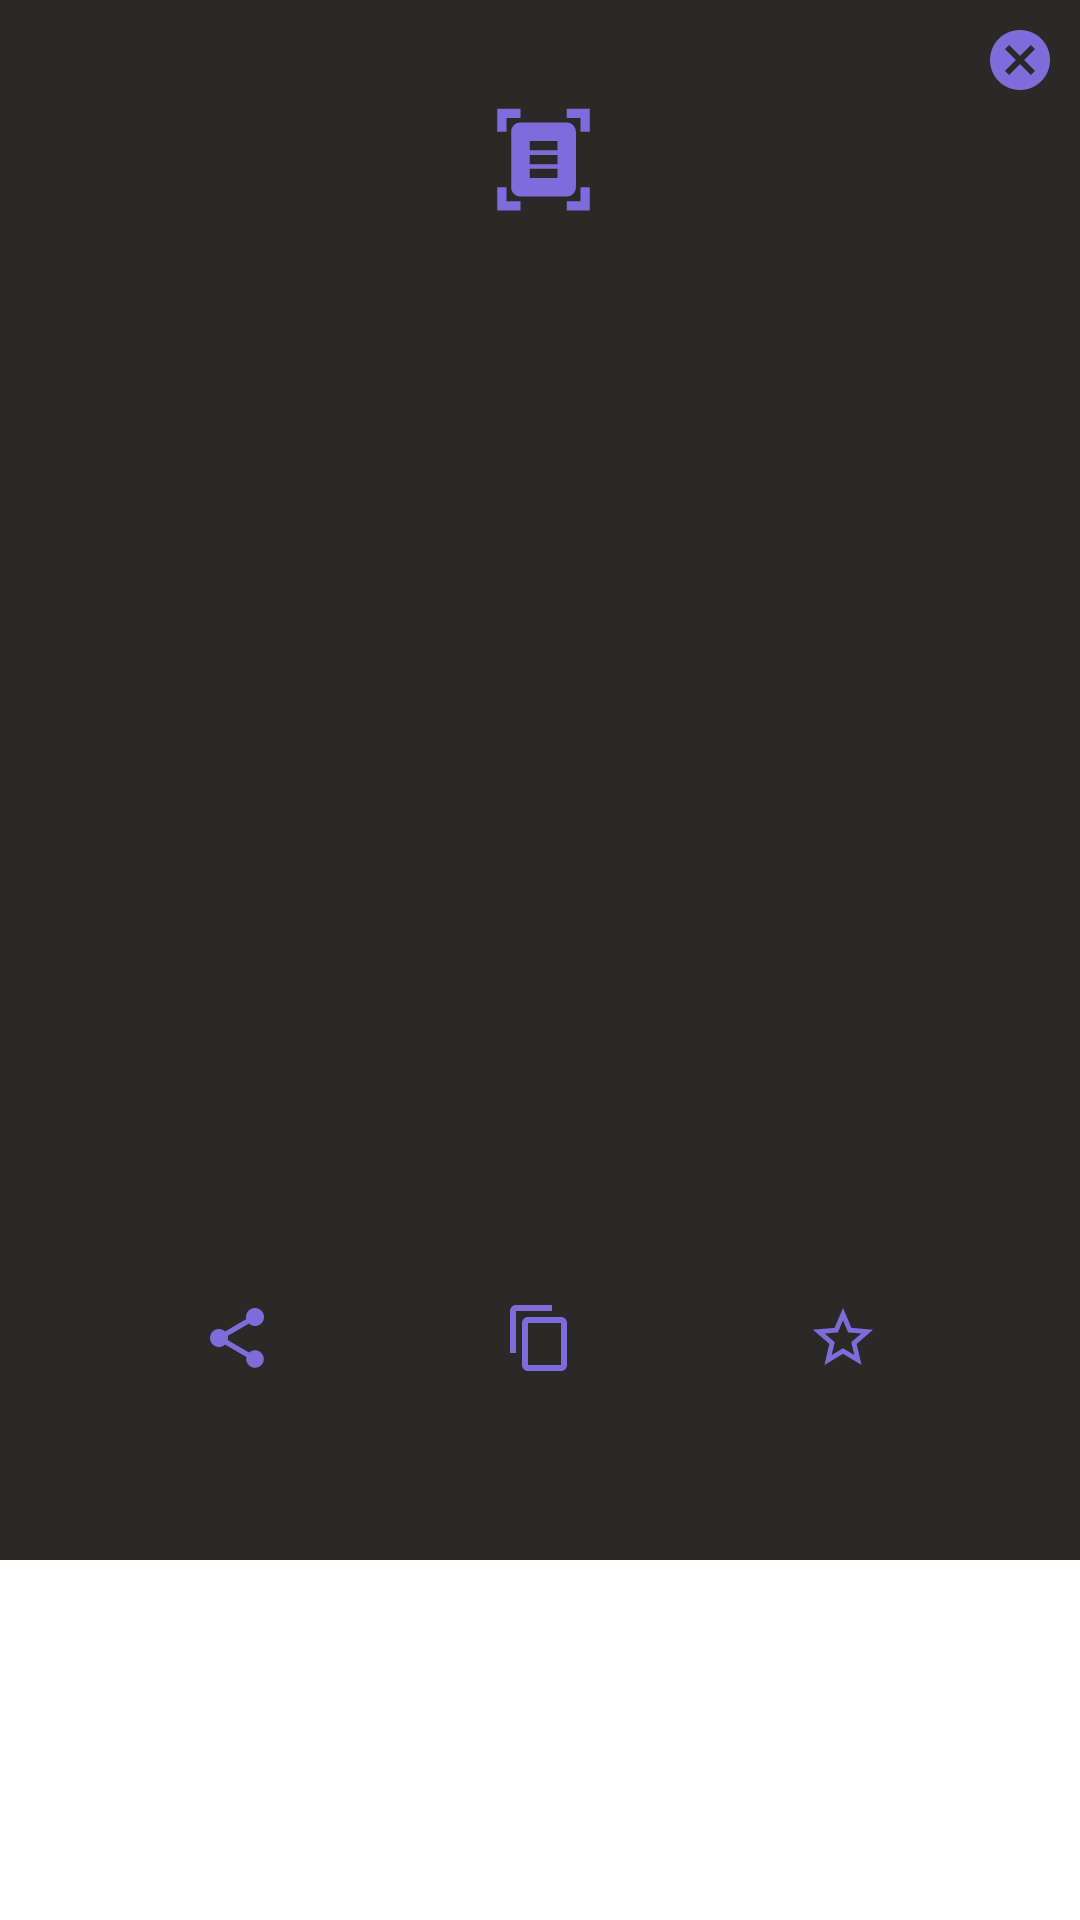

Where to tap for icons on this 1080w x 1920h app screen, as (x,y):
cancel: (1020,60)
document: (543,159)
favorite: (843,1336)
share: (237,1338)
